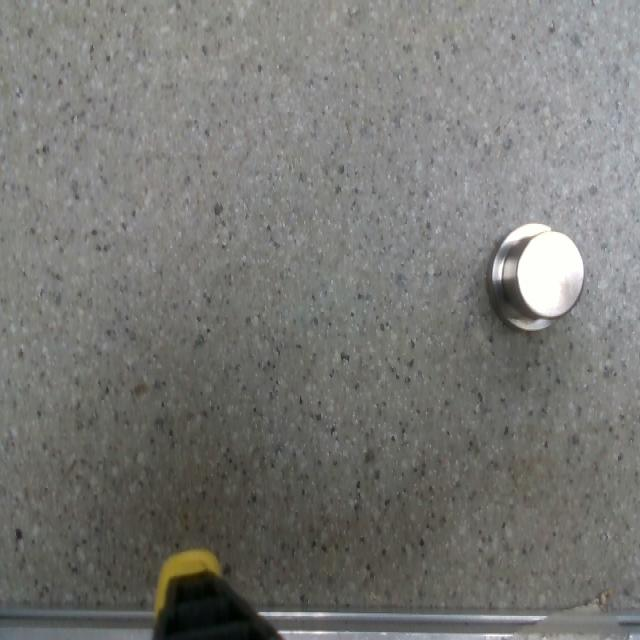sensor: (486, 220, 585, 331)
